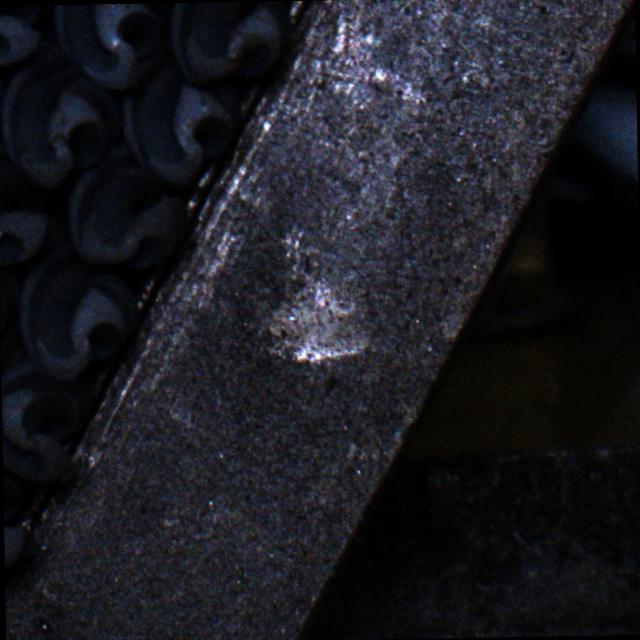tool_b: (17, 236, 141, 382), (0, 45, 119, 189), (66, 139, 188, 270), (120, 62, 240, 186), (0, 319, 82, 481), (168, 0, 286, 84), (53, 2, 168, 88), (0, 138, 51, 264)
